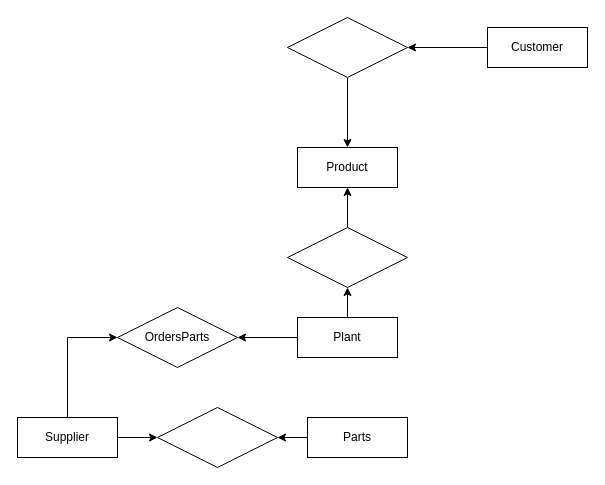
Some shapes in this 605 by 485 pixel diagram are drawn without their labels. The shapes that lost their labels are listed below. From the top down, each one's box as (x1, y1, x2, y2) in pixels, then its label:
(286, 16, 408, 78): Orders
(286, 226, 408, 288): Makes
(156, 406, 278, 468): Has
